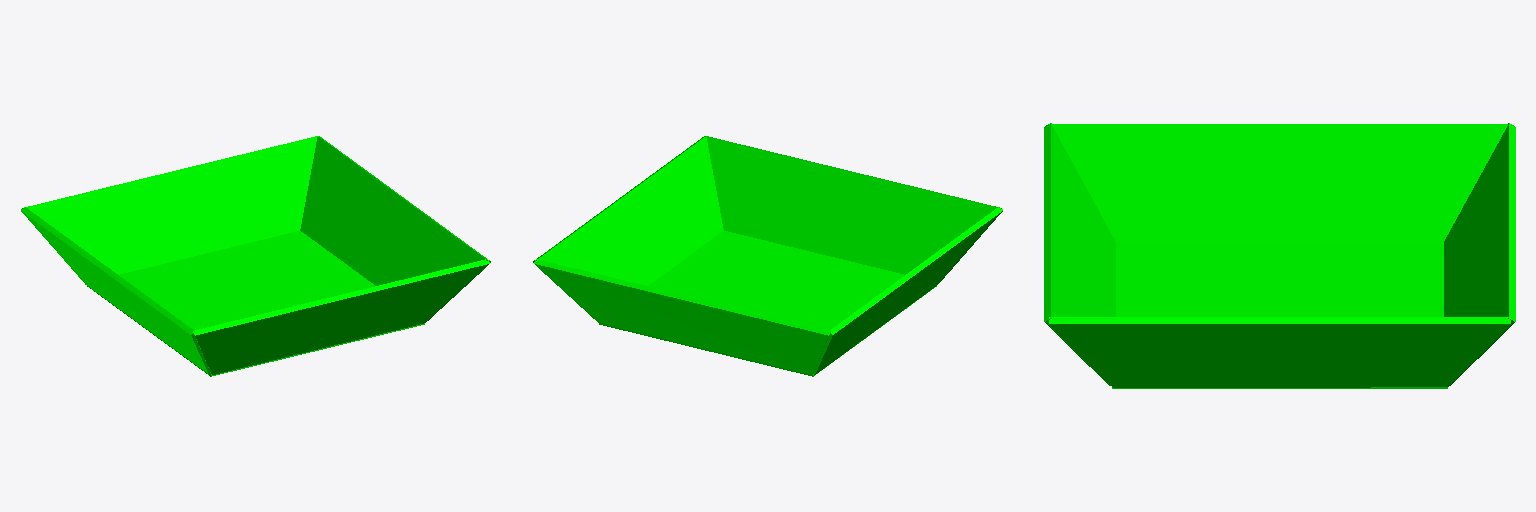
URDF robot description (tabletop):
<robot name="tabletop">
  <link name="base_link">
    <inertial>
      <origin rpy="0 0 0" xyz="0 0 0"/>
      <mass value="0"/>
      <inertia ixx="0" ixy="0" ixz="0" iyy="0" iyz="0" izz="0"/>
    </inertial>
    <visual>
      <origin rpy="0 0 0" xyz="0 0 0"/>
      <geometry>
        <mesh filename="tray_textured.obj" scale="0.5 0.5 0.5"/>
      </geometry>
      <material name="tray_material">
        <color rgba="0 1 0 1"/>
      </material>
    </visual>
    <collision>
      <origin rpy="0 0 0" xyz="0 0 0.005"/>
      <geometry>
	<box size=".6 .6 .02"/>
      </geometry>
    </collision>
    <collision>
      <origin rpy="0 0.575469961 0" xyz="0.25 0 0.059"/>
      <geometry>
	<box size=".02 .6 .15"/>
      </geometry>
    </collision>
    <collision>
      <origin rpy="0 -0.575469961 0" xyz="-0.25 0 0.059"/>
      <geometry>
	<box size=".02 .6 .15"/>
      </geometry>
    </collision>
    <collision>
      <origin rpy="0.575469961 0 0" xyz="0 -0.25 0.059"/>
      <geometry>
	<box size=".6 .02 .15"/>
      </geometry>
    </collision>
    <collision>
      <origin rpy="-0.575469961 0 0" xyz="0 0.25 0.059"/>
      <geometry>
	<box size=".6 .02 .15"/>
      </geometry>
    </collision>

  </link>
</robot>

--- Render facts (derived) ---
3 views of the same robot in one strip: view 1: azimuth 30°, elevation 25°; view 2: azimuth 150°, elevation 25°; view 3: azimuth 270°, elevation 25° (orthographic).
Robot: tabletop — 1 links, 0 joints (none); root link base_link; default pose: every joint at zero.
Links seen in each view (by area): view 1: base_link; view 2: base_link; view 3: base_link.
Link boxes in pixels (x1,y1,x2,y2): base_link: (21,136,490,376); base_link: (533,136,1002,376); base_link: (1044,123,1515,388).
Bounding box of the posed robot: 0.5901 × 0.5901 × 0.1356 m (x, y, z).
1 mesh visuals loaded from 1 distinct referenced files (1 OBJ).